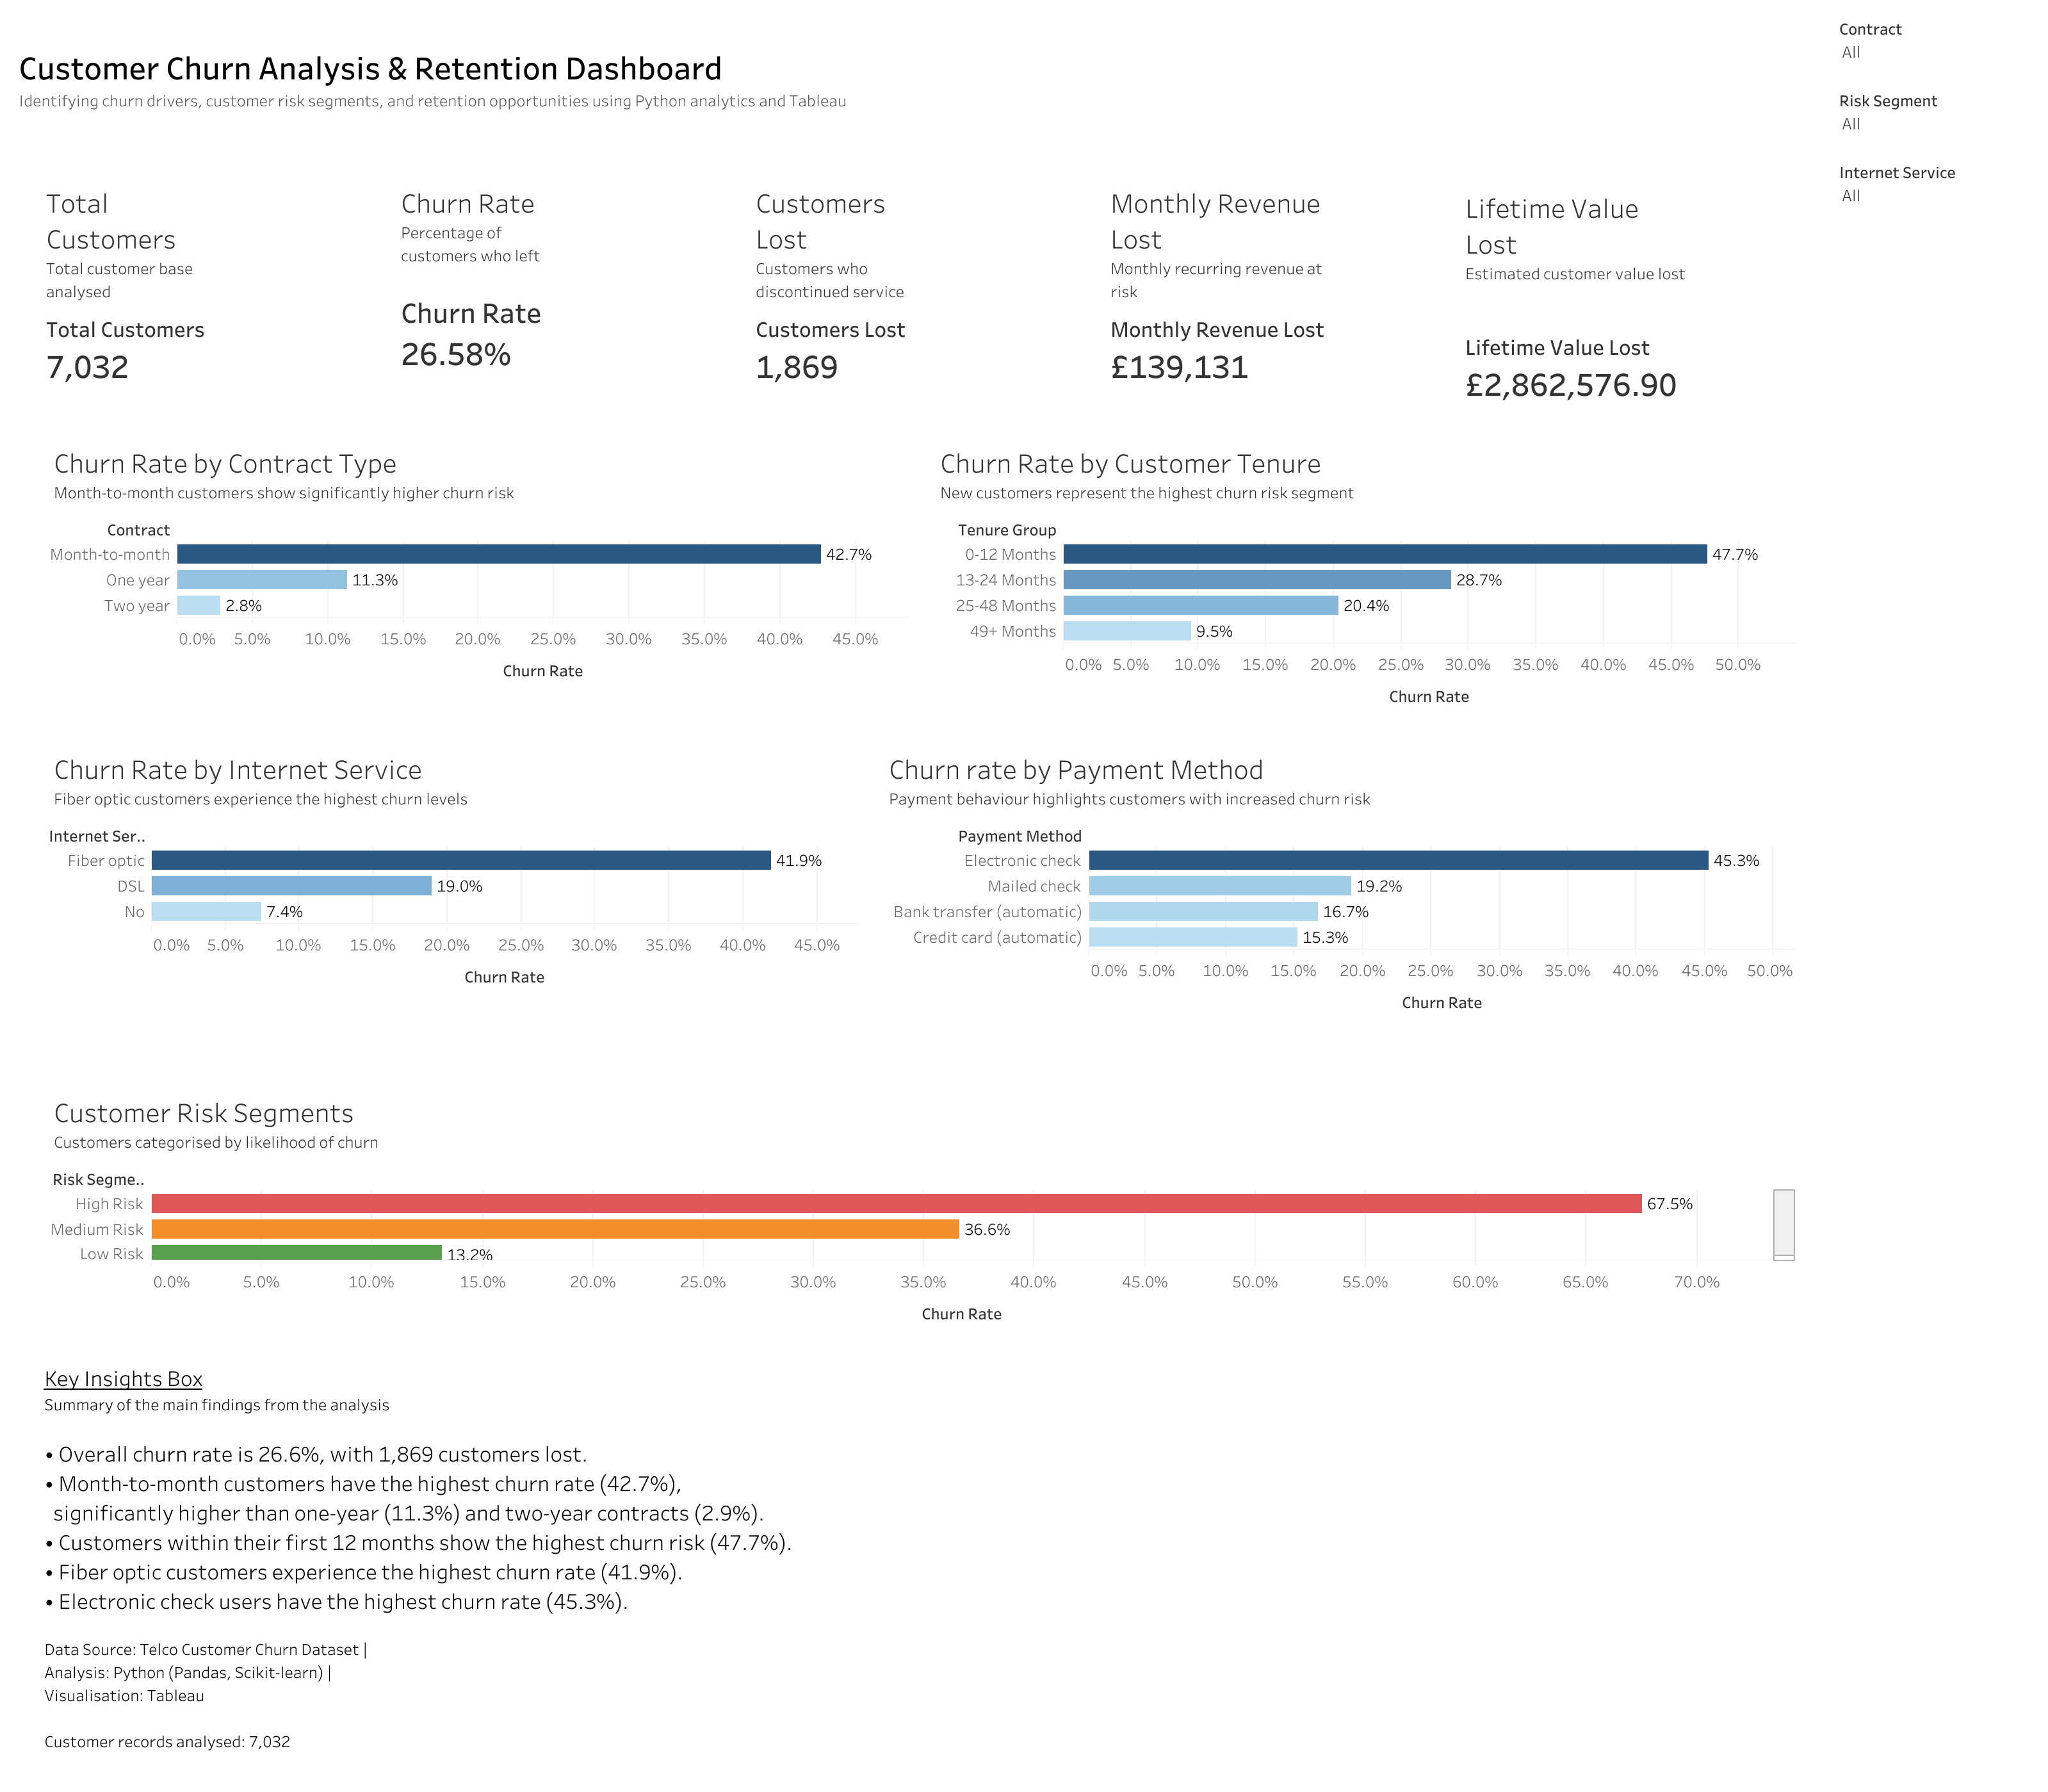

The page's visual inventory and layout, read from the dashboard file:
{"tool":"tableau","page":{"name":"Dashboard 1","canvas":[1600,1400],"ordinal":0},"visuals":[{"type":"text","box":[8,8,1424,106.4]},{"type":"filter","title":"Churn Rate by Contract Type","param":"[federated.0a8v2741rfq0hh1d0uzkk05nm8e7].[none:Contract:nk]","box":[1432,8,160,52]},{"type":"filter","title":"Customer Risk Segments","param":"[federated.0a8v2741rfq0hh1d0uzkk05nm8e7].[none:Risk_Segment:nk]","box":[1432,60,160,52]},{"type":"filter","title":"Churn Rate by Internet Service","param":"[federated.0a8v2741rfq0hh1d0uzkk05nm8e7].[none:InternetService:nk]","box":[1432,112,160,52]},{"type":"worksheet","title":"Total Customers","mark":"Automatic","box":[28,134,277,197]},{"type":"worksheet","title":"Churn Rate","mark":"Text","box":[305,134,277,197]},{"type":"worksheet","title":"Customers Lost","mark":"Automatic","box":[582,134,277,197]},{"type":"worksheet","title":"Monthly Revenue Lost","mark":"Text","box":[859,134,277,197]},{"type":"worksheet","title":"Lifetime Value Lost","mark":"Text","box":[1136,134,276,197]},{"type":"worksheet","title":"Churn Rate by Contract Type","mark":"Bar","rows":["Contract"],"cols":["Calculation_2385691101016065"],"box":[28,331.3,692,239]},{"type":"worksheet","title":"Churn Rate by Customer Tenure","mark":"Bar","rows":["Tenure_Group"],"cols":["Calculation_2385691101016065"],"box":[720,331.3,692,239]},{"type":"worksheet","title":"Churn Rate by Internet Service","mark":"Bar","rows":["InternetService"],"cols":["Calculation_2385691101016065"],"box":[28,570.3,652,268]},{"type":"worksheet","title":"Churn rate by Payment Method","mark":"Bar","rows":["PaymentMethod"],"cols":["Calculation_2385691101016065"],"box":[680,570.3,732,268]},{"type":"worksheet","title":"Customer Risk Segments","mark":"Bar","rows":["Risk_Segment"],"cols":["Calculation_2385691101016065"],"box":[28,838.3,1384,213]},{"type":"text","box":[28,1051.3,1384,223]},{"type":"text","box":[28,1274.3,1384,93]}]}

Visuals, with their boxes in screenshot pixels (x1, y1, x2, y2), scaled from the page's 1600x1400 canvas onto the 2048x1792 screenshot:
text: region(10, 10, 1833, 147)
"Churn Rate by Contract Type" filter: region(1833, 10, 2038, 77)
"Customer Risk Segments" filter: region(1833, 77, 2038, 143)
"Churn Rate by Internet Service" filter: region(1833, 143, 2038, 210)
"Total Customers" worksheet: region(36, 172, 391, 424)
"Churn Rate" worksheet (Text marks): region(391, 172, 745, 424)
"Customers Lost" worksheet: region(745, 172, 1100, 424)
"Monthly Revenue Lost" worksheet (Text marks): region(1100, 172, 1454, 424)
"Lifetime Value Lost" worksheet (Text marks): region(1454, 172, 1807, 424)
"Churn Rate by Contract Type" worksheet (Bar marks): region(36, 424, 922, 730)
"Churn Rate by Customer Tenure" worksheet (Bar marks): region(922, 424, 1807, 730)
"Churn Rate by Internet Service" worksheet (Bar marks): region(36, 730, 870, 1073)
"Churn rate by Payment Method" worksheet (Bar marks): region(870, 730, 1807, 1073)
"Customer Risk Segments" worksheet (Bar marks): region(36, 1073, 1807, 1346)
text: region(36, 1346, 1807, 1631)
text: region(36, 1631, 1807, 1750)
